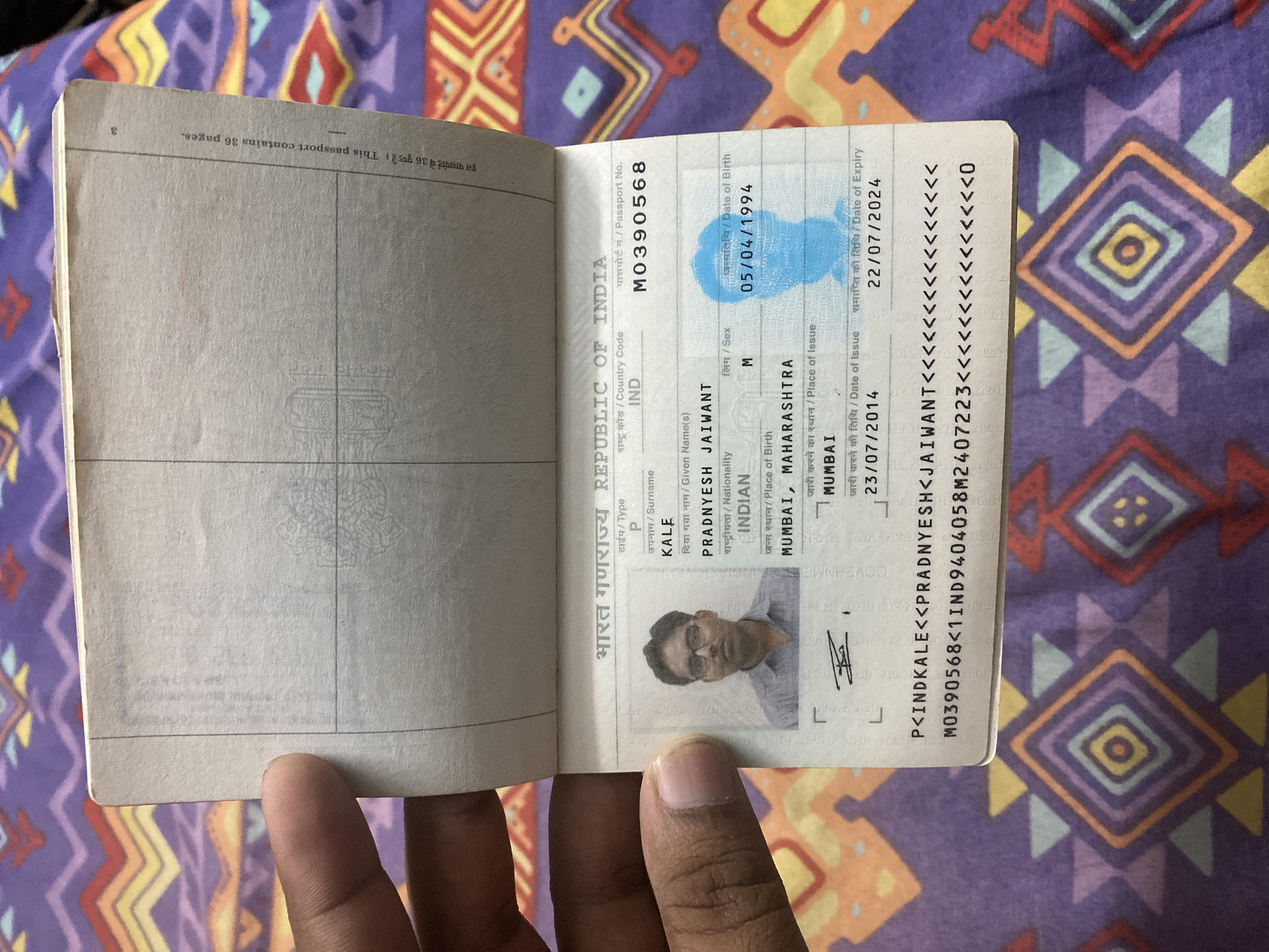DOB: (867, 549, 1030, 572)
Surname: (522, 493, 592, 508)
country_code: (719, 469, 775, 485)
date_of_expiry: (873, 647, 1036, 666)
date_of_issue: (603, 643, 758, 666)
details: (280, 677, 1065, 736)
name: (519, 522, 774, 537)
nationality: (546, 551, 645, 569)
passport_no: (874, 468, 1056, 489)
photo: (299, 472, 512, 600)
place_of_birth: (525, 581, 795, 599)
place_of_issue: (603, 613, 701, 631)
sex: (768, 551, 802, 571)
sign: (332, 612, 481, 654)
type: (550, 470, 583, 484)
